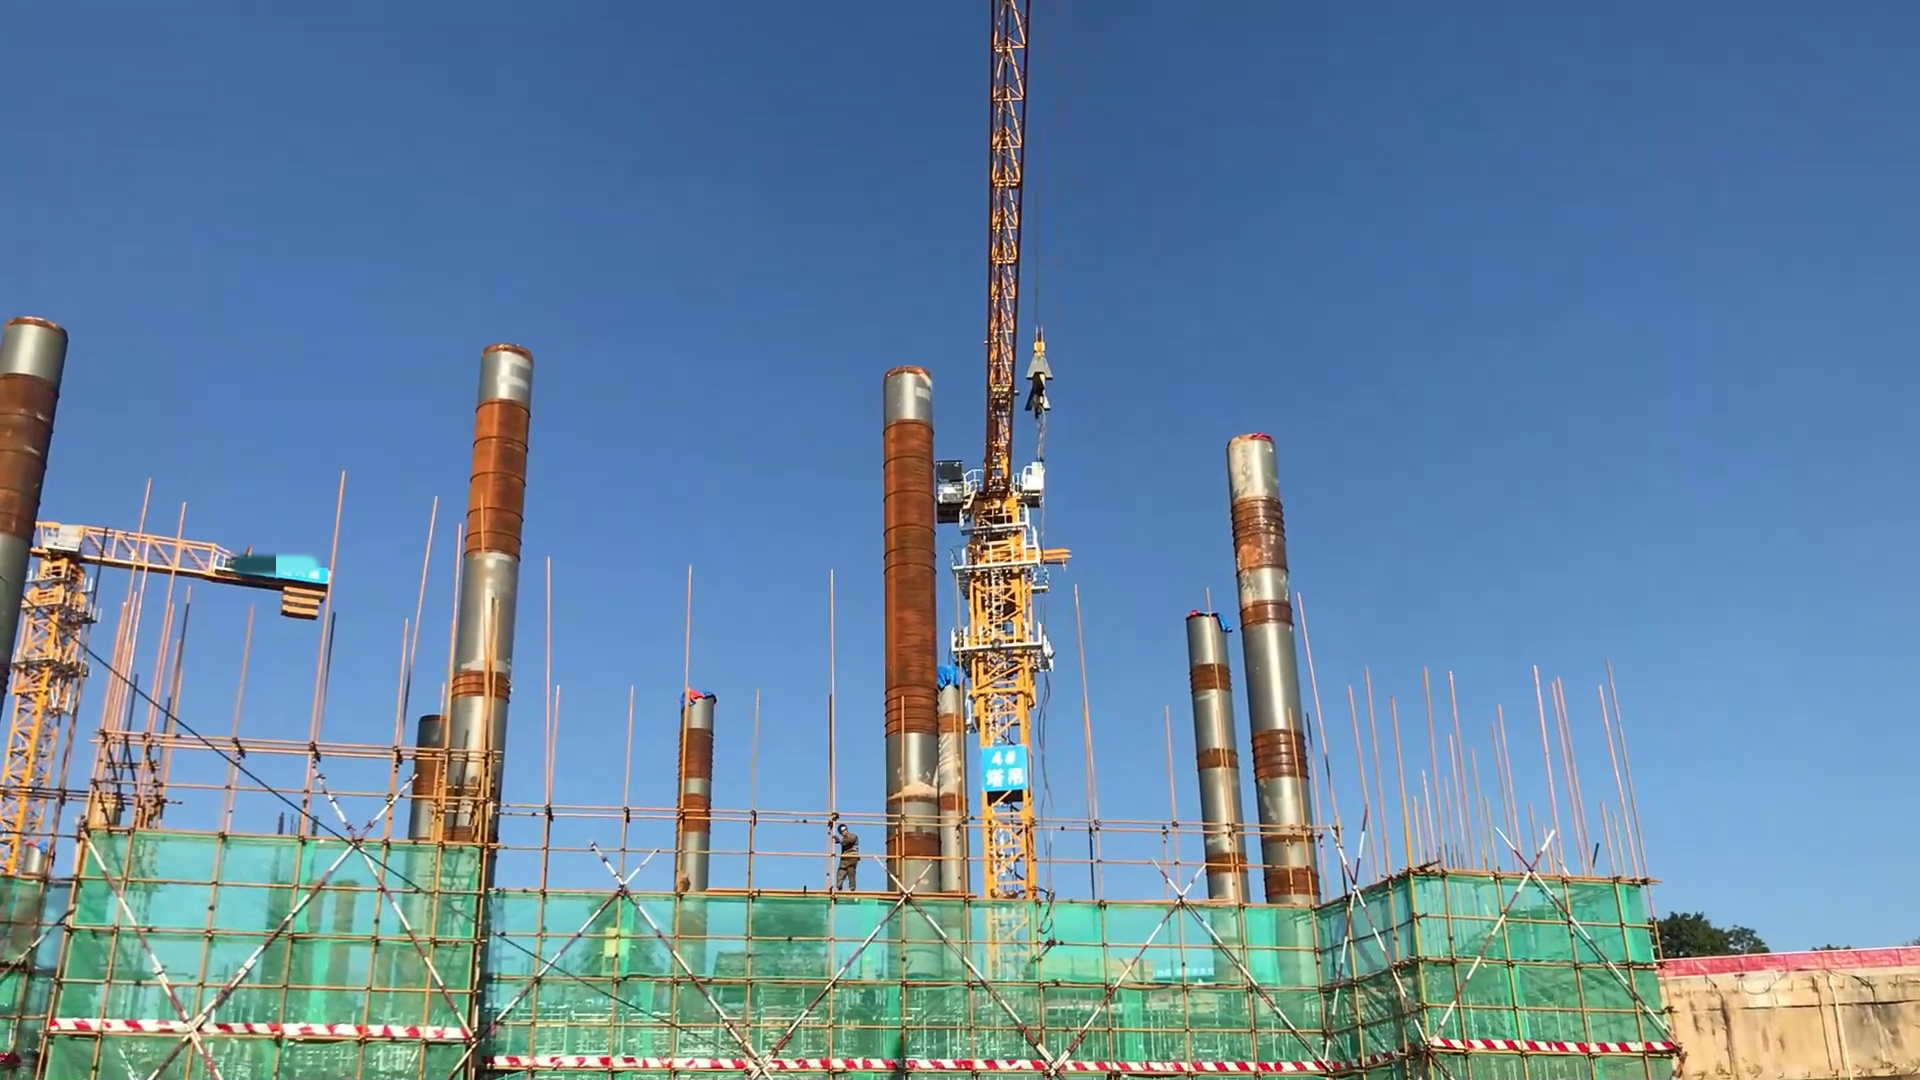helmet: (835, 822, 853, 836)
hook: (1017, 342, 1057, 416)
person: (821, 807, 868, 896)
vest: (832, 844, 865, 867)
